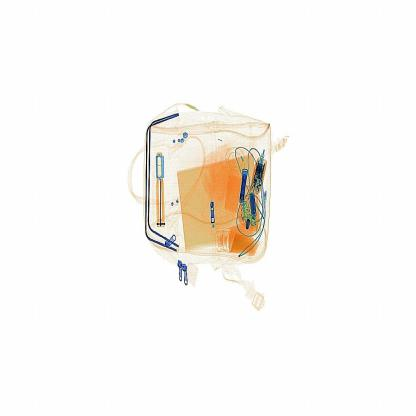wrench: (150, 137, 171, 231)
